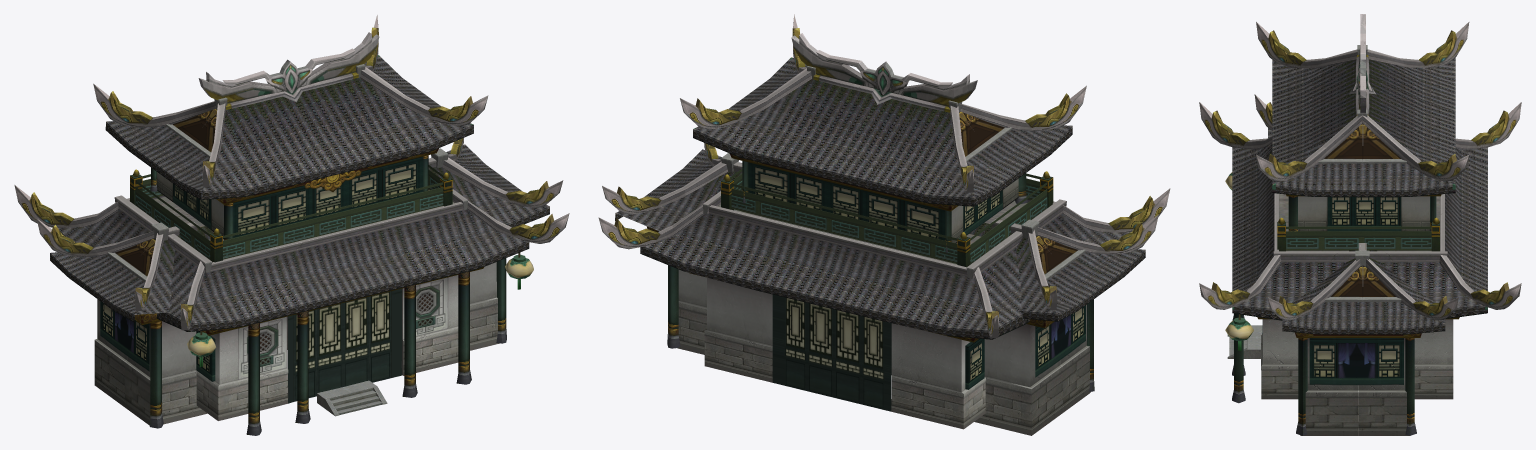
Rendered from fb_zijiancheng_gaojijianzhu01.FBX.
3 renders of one model, left to right at view 1: azimuth 30°, elevation 25°; view 2: azimuth 150°, elevation 25°; view 3: azimuth 270°, elevation 25°, orthographic. The views are drawn at different scales.
Visible parts, largest first — view 1: fb_zijiancheng_gaojijianzhu01a; view 2: fb_zijiancheng_gaojijianzhu01a; view 3: fb_zijiancheng_gaojijianzhu01a.
Part boxes in pixels (x1,y1,x2,y2): fb_zijiancheng_gaojijianzhu01a: (14, 15, 569, 435); fb_zijiancheng_gaojijianzhu01a: (598, 14, 1170, 435); fb_zijiancheng_gaojijianzhu01a: (1199, 14, 1521, 435).
Size of the model in its own units: 1030 by 703 by 690.
